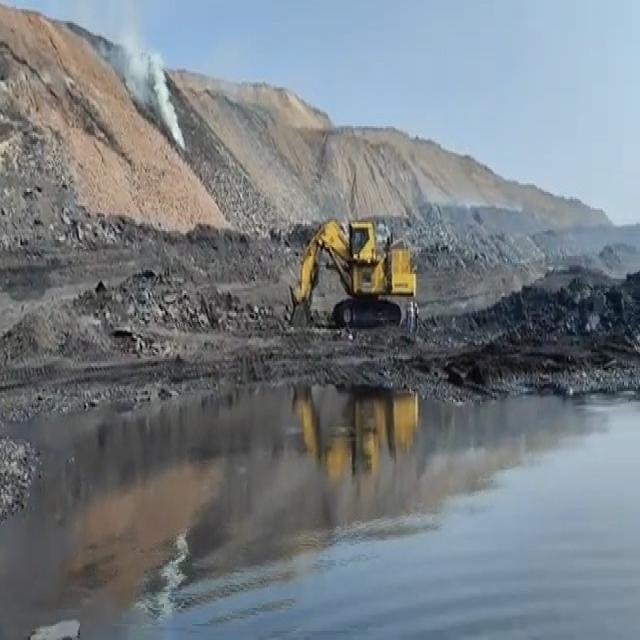excavator: (279, 206, 420, 348)
